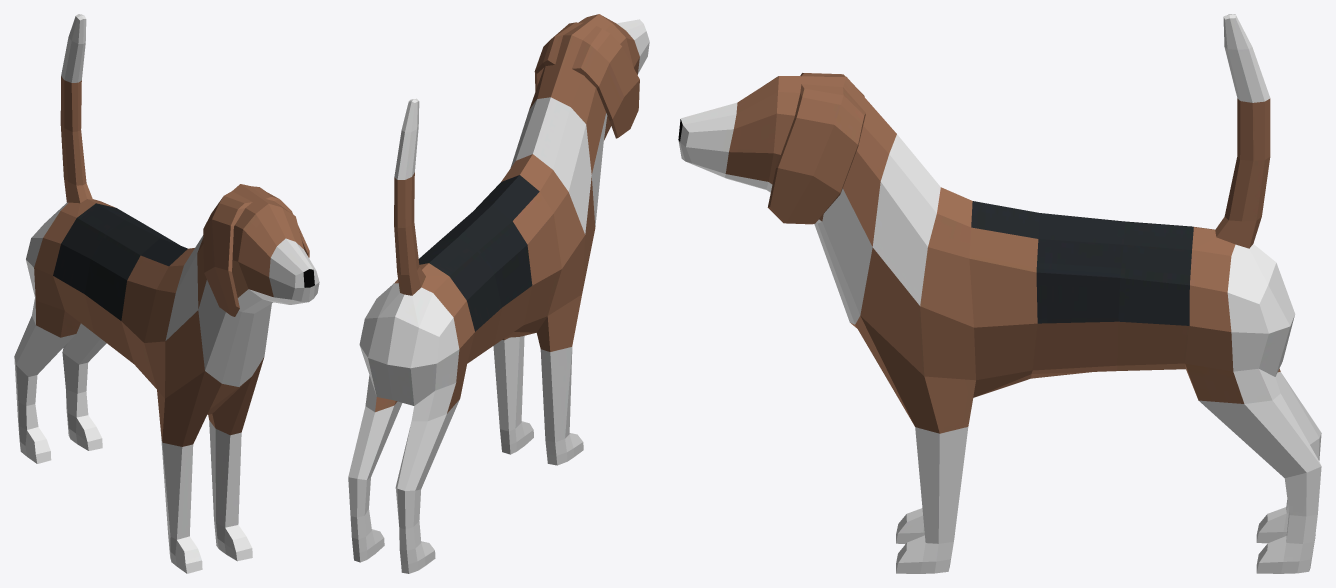
Rendered from prop_pa_beagle.glb.
3 renders of one model, left to right at view 1: azimuth 30°, elevation 25°; view 2: azimuth 150°, elevation 25°; view 3: azimuth 270°, elevation 25°, orthographic. The views are drawn at different scales.
Visible parts, largest first — view 1: 20dogFinal; view 2: 20dogFinal; view 3: 20dogFinal.
Boxes of the visible parts, bbox=[...] form: 20dogFinal: bbox=[14, 14, 319, 573]; 20dogFinal: bbox=[348, 14, 649, 573]; 20dogFinal: bbox=[678, 14, 1321, 573].
Size of the model in its own units: 0.2365 by 1.1 by 1.18.
1 material, 1 textured.
